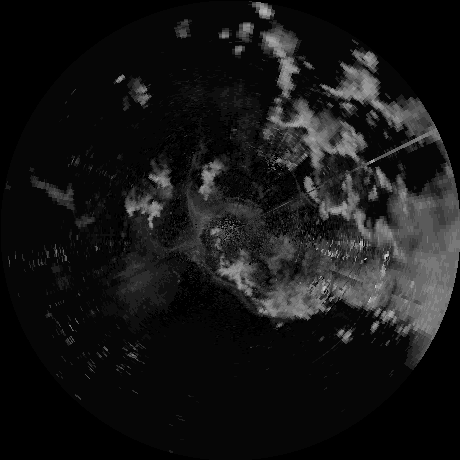frontgust: (203, 266, 238, 292), (185, 153, 203, 203), (294, 175, 318, 207)
